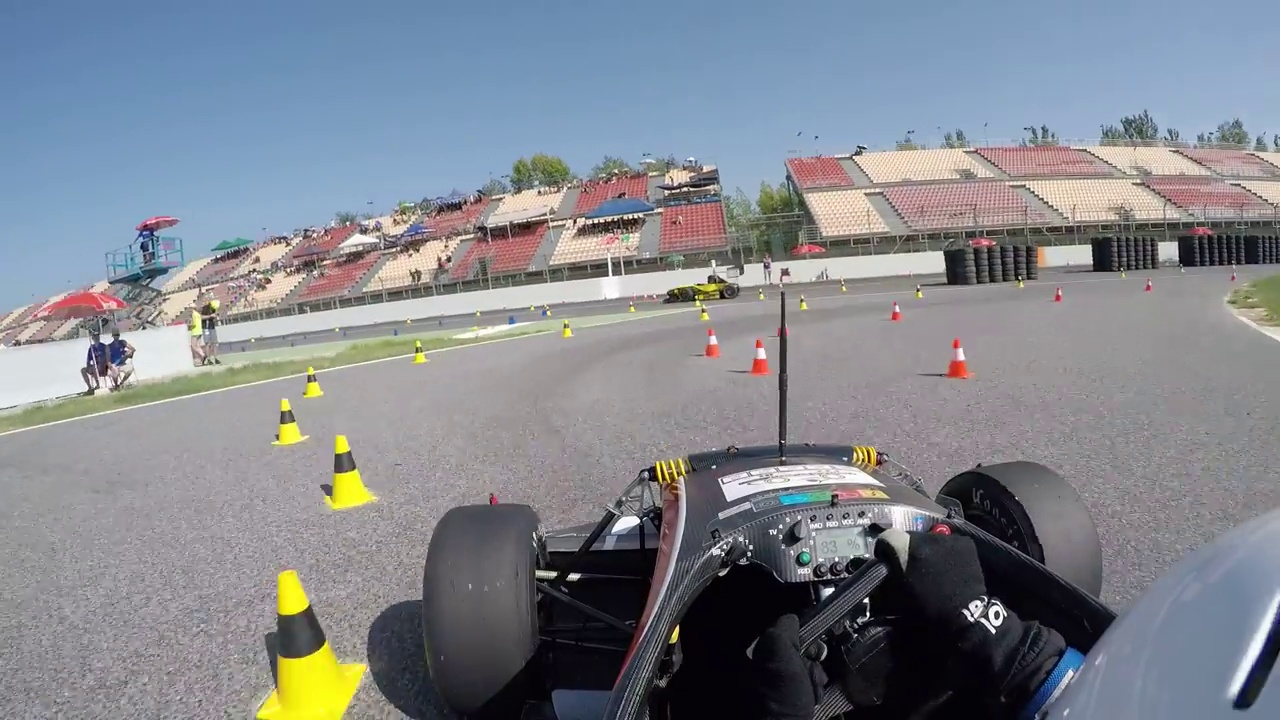Cone: (262, 570, 359, 718), (326, 430, 368, 514), (272, 393, 306, 447), (944, 335, 972, 377), (747, 338, 773, 377), (303, 364, 329, 398), (704, 325, 725, 357)
